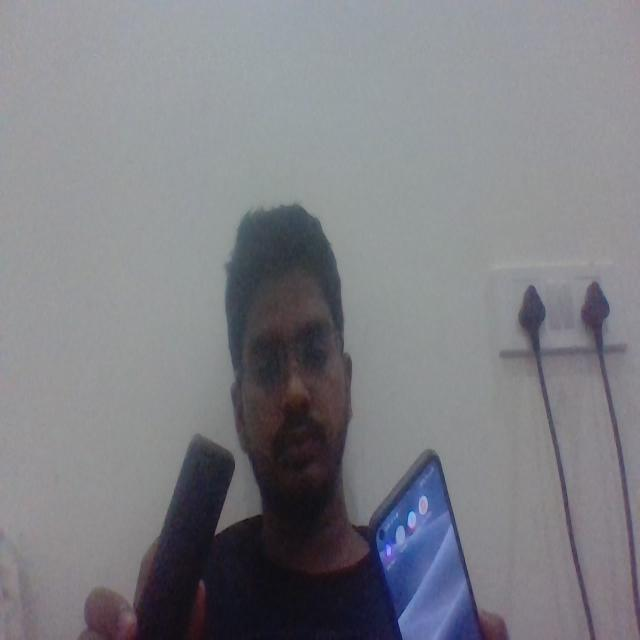Phone: (130, 430, 239, 640), (362, 446, 478, 640)
